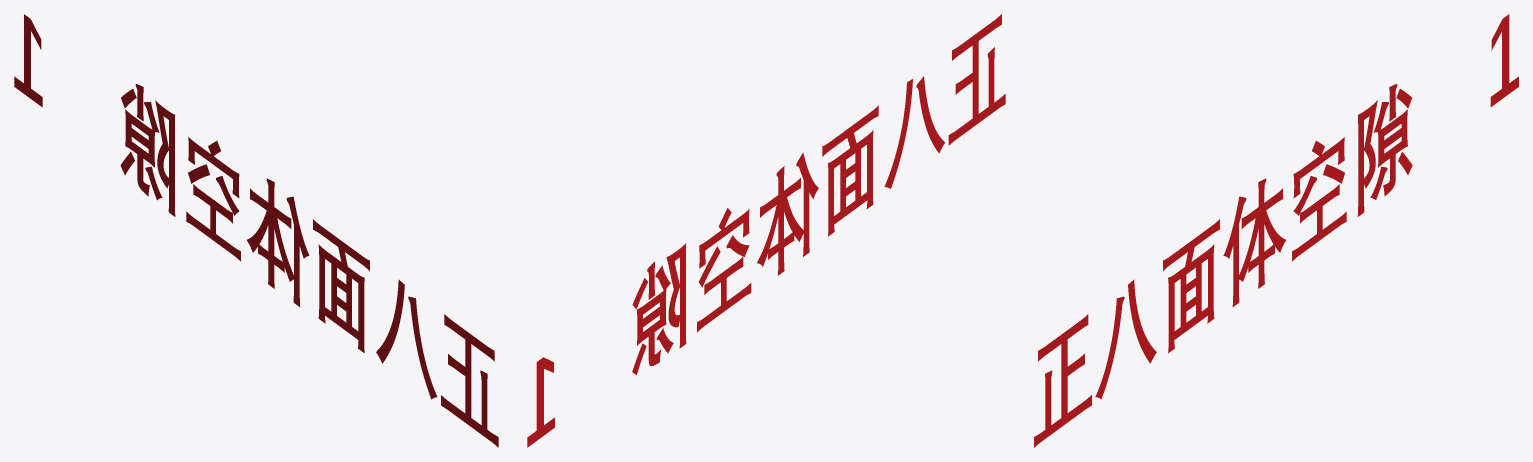
Rendered from z正八面体  1 .fbx.
3 renders of one model, left to right at view 1: azimuth 30°, elevation 25°; view 2: azimuth 150°, elevation 25°; view 3: azimuth 330°, elevation 25°, orthographic.
Parts seen in each view (by area): view 1: Text.005; view 2: Text.005; view 3: Text.005.
Part boxes in pixels (bbox=[...]): Text.005: bbox=[14, 14, 498, 447]; Text.005: bbox=[527, 14, 1005, 447]; Text.005: bbox=[1034, 14, 1518, 447].
Size of the model in its own units: 0.142 by 76.29 by 621.
